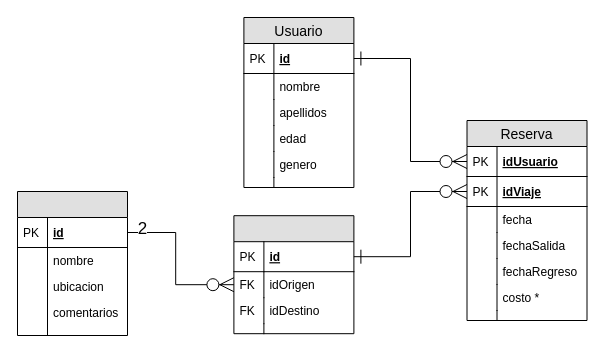
Image size: 605x353. Some labels were removed from this diagram. The shapes that lost their labels are listed below. From the top down, each one's box as (x1, y1, x2, y2) in pixels, then its label:
(16, 190, 128, 336): Lugar
(233, 215, 354, 334): Viaje
